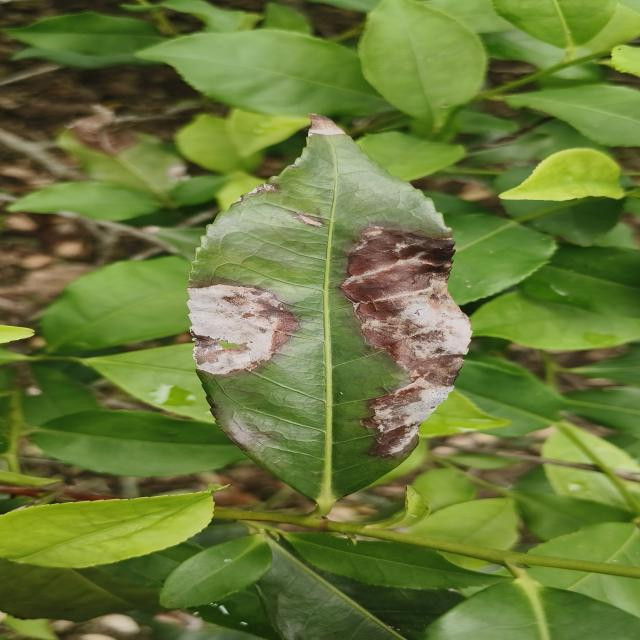Leaf: (189, 115, 470, 515), (137, 29, 394, 117), (255, 542, 465, 640), (359, 0, 487, 131), (0, 491, 214, 568), (41, 256, 190, 353), (32, 410, 245, 477), (423, 578, 640, 640), (58, 106, 186, 206), (288, 533, 506, 589), (445, 213, 557, 306), (83, 344, 213, 421), (470, 292, 640, 350), (520, 245, 640, 319), (456, 355, 564, 436), (505, 84, 640, 147), (161, 534, 272, 608), (4, 12, 163, 54), (499, 148, 624, 201), (492, 0, 617, 52), (8, 182, 162, 221), (408, 498, 519, 549), (530, 566, 640, 617), (357, 132, 465, 181), (527, 522, 640, 567), (175, 114, 247, 174), (421, 391, 510, 436), (446, 554, 482, 569)
